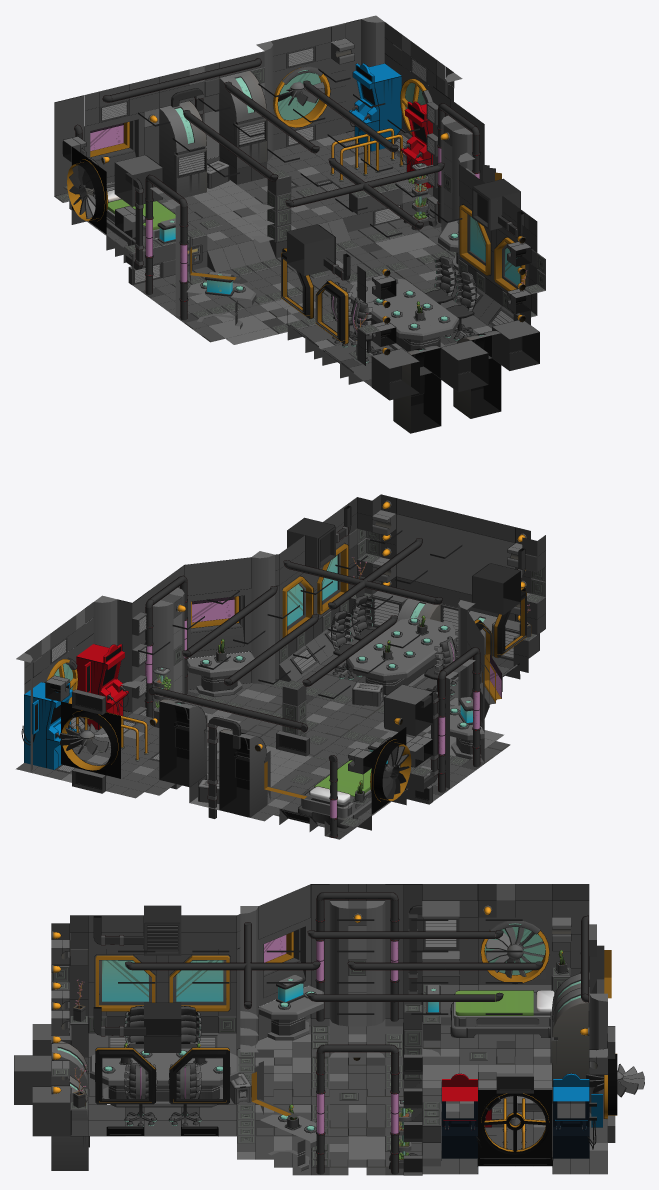
Rendered from cyberpunk.glb.
3 views of the same model, one above another, from view 1: azimuth 30°, elevation 25°; view 2: azimuth 150°, elevation 25°; view 3: azimuth 270°, elevation 25° (orthographic). The views are drawn at different scales.
Visible parts, largest first — view 1: Ventilation1.010, Ventilation1.011, ArcadeBlue.004, Ventilation1.012, WIndow2.009, WIndow4.006, Ventilation2.031, Ventilation1.013, Ventilation2.032, Ventilation2.029, WIndow3.009, Ventilation2.033 (+32 smaller); view 2: Tile11.440, Ventilation1.011, Ventilation1.010, WIndow4.008, ArcadeBlue.004, ArcadeRed.002, Bed.003, Tile10.210, Ventilation2.029, WIndow2.009, Ventilation2.002, Tile11.442 (+43 smaller); view 3: Bed.003, WIndow3.006, WIndow3.008, WIndow2.010, ArcadeBlue.004, Ventilation1.011, WIndow1.004, WIndow4.009, ArcadeRed.002, Column.069, Column.068, Ventilation2.032 (+68 smaller).
Boxes of the visible parts, left/top/right/bottom form: Ventilation1.010: left=159, top=100, right=206, bottom=197; Ventilation1.011: left=219, top=70, right=267, bottom=168; ArcadeBlue.004: left=349, top=63, right=401, bottom=151; Ventilation1.012: left=393, top=345, right=441, bottom=433; WIndow2.009: left=273, top=58, right=330, bottom=134; WIndow4.006: left=84, top=112, right=144, bottom=183; Ventilation2.031: left=440, top=340, right=488, bottom=392; Ventilation1.013: left=453, top=331, right=501, bottom=418; Ventilation2.032: left=492, top=320, right=539, bottom=370; Ventilation2.029: left=287, top=224, right=335, bottom=275; WIndow3.009: left=459, top=196, right=493, bottom=283; Ventilation2.033: left=371, top=348, right=419, bottom=400; Tile11.440: left=396, top=514, right=515, bottom=594; Ventilation1.011: left=159, top=699, right=206, bottom=787; Ventilation1.010: left=219, top=729, right=267, bottom=817; WIndow4.008: left=187, top=588, right=251, bottom=658; ArcadeBlue.004: left=21, top=682, right=76, bottom=769; ArcadeRed.002: left=76, top=644, right=128, bottom=729; Bed.003: left=298, top=760, right=371, bottom=828; Tile10.210: left=184, top=557, right=251, bottom=595; Ventilation2.029: left=472, top=563, right=520, bottom=614; WIndow2.009: left=61, top=701, right=120, bottom=778; Ventilation2.002: left=384, top=684, right=432, bottom=736; Tile11.442: left=396, top=498, right=515, bottom=542; Bed.003: left=450, top=990, right=555, bottom=1037; WIndow3.006: left=88, top=949, right=162, bottom=1016; WIndow3.008: left=162, top=949, right=236, bottom=1016; WIndow2.010: left=478, top=917, right=552, bottom=984; ArcadeBlue.004: left=553, top=1073, right=602, bottom=1160; Ventilation1.011: left=550, top=987, right=589, bottom=1086; WIndow1.004: left=478, top=1090, right=552, bottom=1156; WIndow4.009: left=258, top=918, right=310, bottom=1006; ArcadeRed.002: left=441, top=1073, right=491, bottom=1173; Column.069: left=329, top=901, right=348, bottom=1026; Column.068: left=366, top=901, right=385, bottom=1026; Ventilation2.032: left=32, top=1086, right=71, bottom=1136.
Size of the model in its own units: 12.2 by 5.51 by 17.
1 material, 1 textured.
